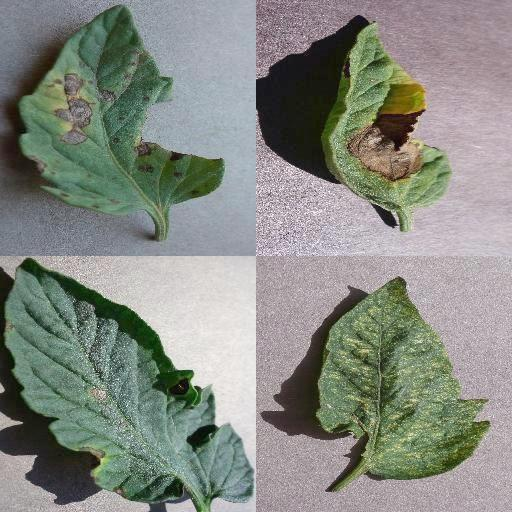Early Blight: (6, 263, 256, 505), (21, 4, 225, 210), (323, 15, 452, 219)
Spider Mites: (316, 274, 489, 482)
